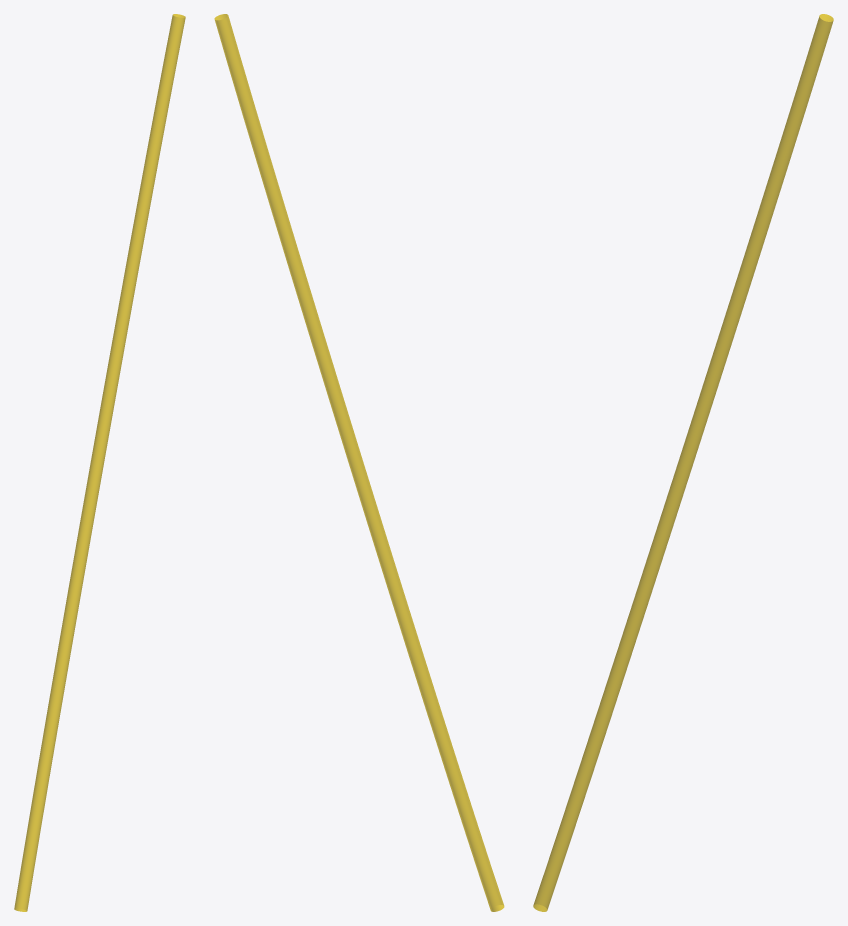
The model's file is Event_75125125_track_58.fbx.
3 views of the same model, side by side, from view 1: azimuth 30°, elevation 25°; view 2: azimuth 150°, elevation 25°; view 3: azimuth 330°, elevation 25° (orthographic). The views are drawn at different scales.
Parts seen in each view (by area): view 1: Model; view 2: Model; view 3: Model.
Boxes of the visible parts, <box> form: Model: <box>14,14,185,911</box>; Model: <box>214,14,504,911</box>; Model: <box>533,14,833,911</box>.
Size of the model in its own units: 0.7538 by 2.68 by 0.3295.
